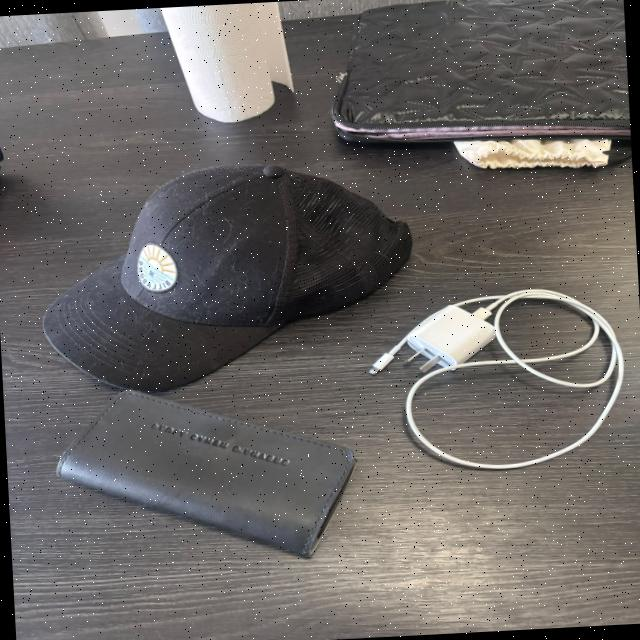Gorra: (24, 140, 422, 398)
